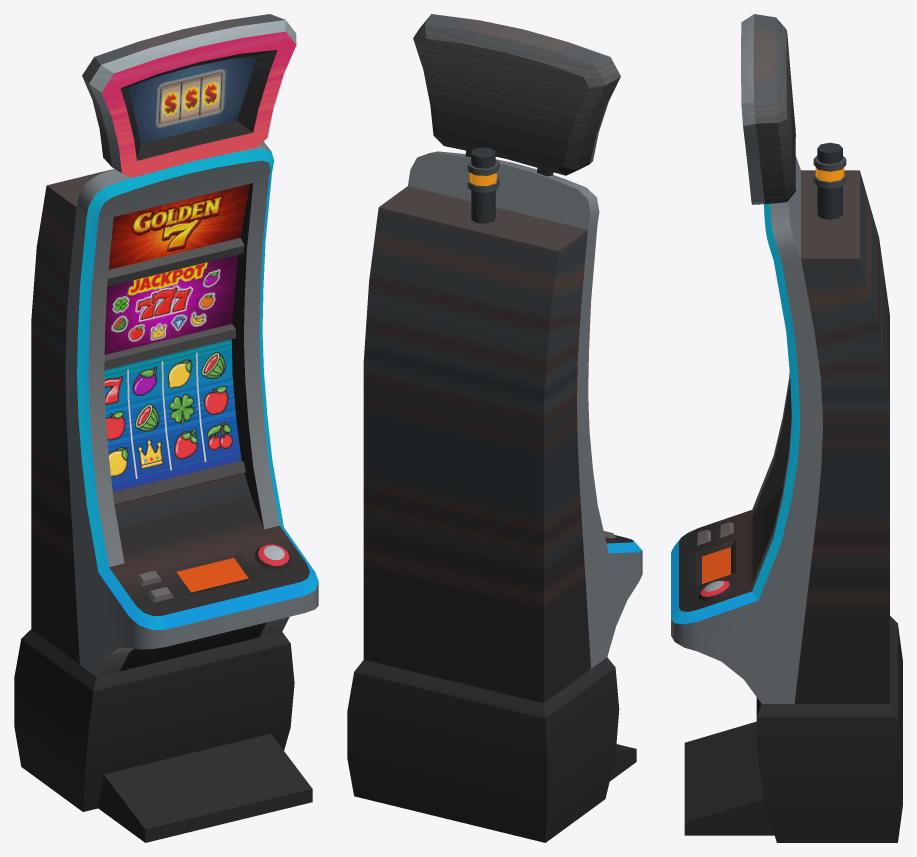
File: slot-machine-02.glb
3 views of the same model, side by side, from view 1: azimuth 30°, elevation 25°; view 2: azimuth 150°, elevation 25°; view 3: azimuth 270°, elevation 25° (orthographic). The views are drawn at different scales.
Parts seen in each view (by area): view 1: Slot_Machine_02, Slot_07, Slot_08, Slot_06, Slot_05; view 2: Slot_Machine_02; view 3: Slot_Machine_02.
Boxes of the visible parts, left/top/right/bottom form: Slot_Machine_02: left=14, top=14, right=318, bottom=842; Slot_07: left=167, top=359, right=197, bottom=459; Slot_08: left=201, top=352, right=232, bottom=450; Slot_06: left=132, top=366, right=163, bottom=469; Slot_05: left=104, top=376, right=128, bottom=476; Slot_Machine_02: left=347, top=14, right=642, bottom=842; Slot_Machine_02: left=671, top=14, right=902, bottom=842.
Bounding box in the file's own units: 0.8656 × 3.04 × 0.8581.
4 materials, 4 textured.
